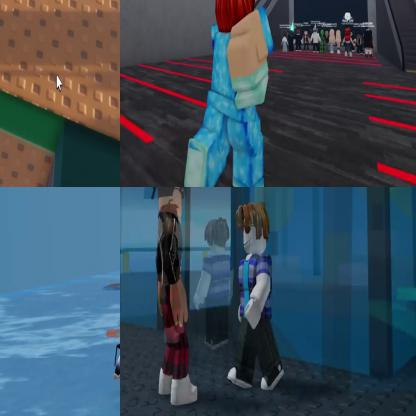Roblox-Avatar: (185, 1, 276, 187), (228, 203, 286, 392), (152, 188, 200, 408), (194, 217, 235, 351), (343, 28, 358, 59), (311, 25, 323, 54), (364, 30, 376, 59), (302, 30, 312, 54), (295, 29, 304, 52), (282, 30, 290, 54), (320, 30, 327, 55), (330, 30, 337, 54), (337, 30, 343, 55)
